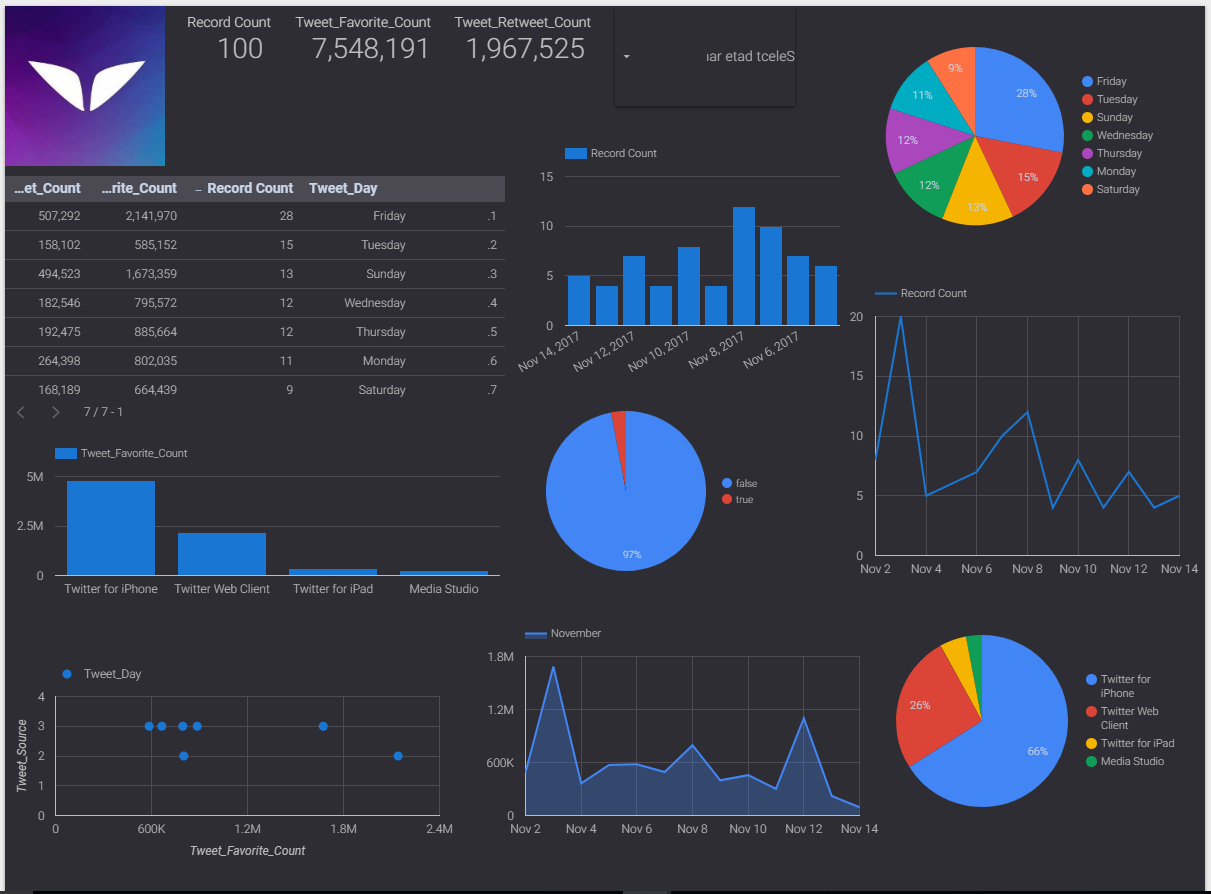

What the dashboard file says about the page in this screenshot:
{"tool":"powerbi","page":{"name":"User Tweets Analytics","canvas":[1280,720],"ordinal":3},"visuals":[{"type":"pieChart","fields":{"Category":["UserTweets.Tweet Source"],"Y":["CountNonNull(UserTweets.Tweet Id)"]},"box":[0,195.1,262.5,198.6],"z":2},{"type":"card","fields":{"Values":["Sum(UserTweets.Tweet Retweet Count)"]},"box":[202.1,27.1,162.7,87.5],"z":3},{"type":"card","fields":{"Values":["Sum(UserTweets.Tweet Favorite Count)"]},"box":[374.4,27.1,161,86.6],"z":4},{"type":"tableEx","fields":{"Values":["UserTweets.Tweet Month","UserTweets.Is Reply","UserTweets.Is Retweet","Sum(UserTweets.Tweet Retweet Count)","Sum(UserTweets.Tweet Favorite Count)"]},"box":[0,414.7,424.3,120.7],"z":5},{"type":"image","box":[0,0,179.3,176.7],"z":6},{"type":"donutChart","fields":{"Y":["CountNonNull(UserTweets.Tweet Id)"],"Category":["UserTweets.Is Retweet"]},"box":[262.5,173.2,250.2,220.5],"z":6},{"type":"funnel","fields":{"Y":["CountNonNull(UserTweets.Tweet Id)"],"Category":["UserTweets.Is Retweet"]},"box":[515.3,206.5,305.3,207.3],"z":7},{"type":"card","fields":{"Values":["CountNonNull(UserTweets.Tweet Id)"]},"box":[544.2,27.1,144.3,85.7],"z":8},{"type":"slicer","fields":{"Values":["UserTweets.Is Reply"]},"box":[841.6,42,117.2,69.1],"z":9},{"type":"slicer","fields":{"Values":["UserTweets.Is Retweet"]},"box":[694.6,39.4,138.2,71.7],"z":10},{"type":"slicer","fields":{"Values":["UserTweets.Tweet Time"]},"box":[965.8,41.1,250.2,77.9],"z":11},{"type":"lineClusteredColumnComboChart","fields":{"Category":["UserTweets.Tweet Day"],"Y":["Sum(UserTweets.Tweet Favorite Count)"],"Y2":["CountNonNull(UserTweets.Tweet Id)"]},"box":[430.4,464.5,523.2,254.6],"z":12},{"type":"donutChart","fields":{"Category":["UserTweets.Is Reply"],"Y":["CountNonNull(UserTweets.Tweet Id)"]},"box":[972.8,487.3,307.1,232.7],"z":12},{"type":"tableEx","fields":{"Values":["UserTweets.Tweet Month","UserTweets.Is Reply","UserTweets.Is Retweet","UserTweets.Tweet Source","UserTweets.Tweet Day","Sum(UserTweets.Tweet Favorite Count)"]},"box":[823.2,153.1,455.9,285.2],"z":14},{"type":"pieChart","fields":{"Y":["CountNonNull(UserTweets.Tweet Id)"],"Category":["UserTweets.Tweet Day"]},"box":[0,538,404.2,182],"z":15}]}

Visuals, with their boxes on the page's 1280x720 design canvas (x1, y1, x2, y2). These are canvas units, not pixel positions in the 1211x894 screenshot, which may show the page scaled, cropped or inside an application window:
pieChart - UserTweets.Tweet Source x CountNonNull(UserTweets.Tweet Id): {"left": 0, "top": 195, "right": 262, "bottom": 394}
card - Sum(UserTweets.Tweet Retweet Count): {"left": 202, "top": 27, "right": 365, "bottom": 115}
card - Sum(UserTweets.Tweet Favorite Count): {"left": 374, "top": 27, "right": 535, "bottom": 114}
tableEx - UserTweets.Tweet Month x UserTweets.Is Reply: {"left": 0, "top": 415, "right": 424, "bottom": 535}
image: {"left": 0, "top": 0, "right": 179, "bottom": 177}
donutChart - CountNonNull(UserTweets.Tweet Id) x UserTweets.Is Retweet: {"left": 262, "top": 173, "right": 513, "bottom": 394}
funnel - CountNonNull(UserTweets.Tweet Id) x UserTweets.Is Retweet: {"left": 515, "top": 206, "right": 821, "bottom": 414}
card - CountNonNull(UserTweets.Tweet Id): {"left": 544, "top": 27, "right": 688, "bottom": 113}
slicer - UserTweets.Is Reply: {"left": 842, "top": 42, "right": 959, "bottom": 111}
slicer - UserTweets.Is Retweet: {"left": 695, "top": 39, "right": 833, "bottom": 111}
slicer - UserTweets.Tweet Time: {"left": 966, "top": 41, "right": 1216, "bottom": 119}
lineClusteredColumnComboChart - UserTweets.Tweet Day x Sum(UserTweets.Tweet Favorite Count): {"left": 430, "top": 464, "right": 954, "bottom": 719}
donutChart - UserTweets.Is Reply x CountNonNull(UserTweets.Tweet Id): {"left": 973, "top": 487, "right": 1280, "bottom": 720}
tableEx - UserTweets.Tweet Month x UserTweets.Is Reply: {"left": 823, "top": 153, "right": 1279, "bottom": 438}
pieChart - CountNonNull(UserTweets.Tweet Id) x UserTweets.Tweet Day: {"left": 0, "top": 538, "right": 404, "bottom": 720}
